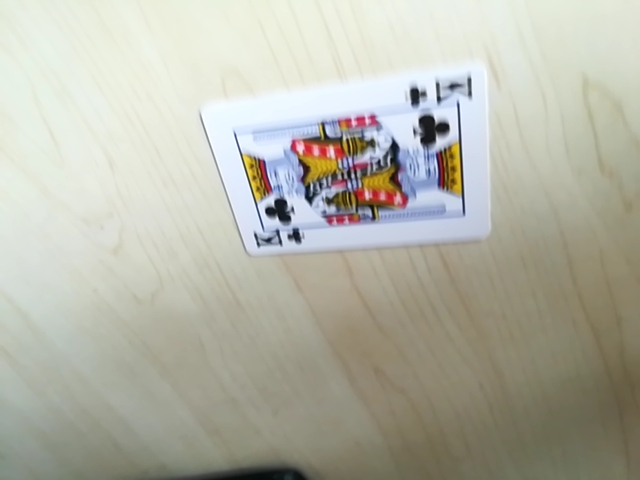mh k: (407, 73, 474, 109), (241, 218, 300, 255)
